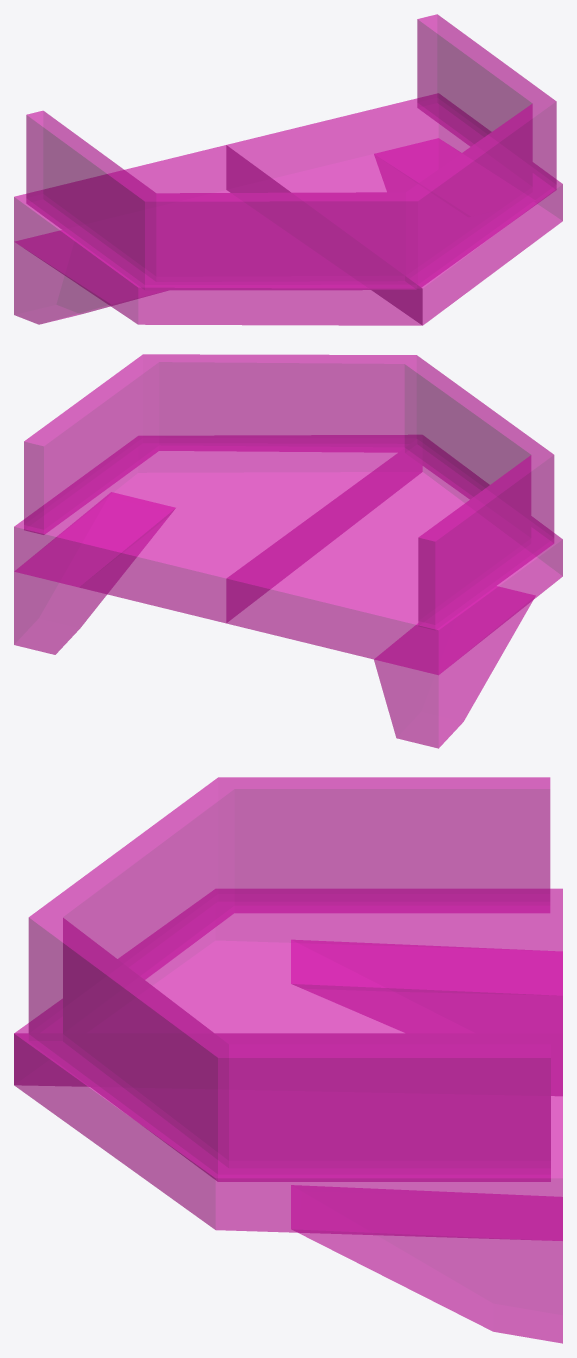
File: SM_Bld_Balcony_03_Collision.fbx
3 views of the same model, one above another, from view 1: azimuth 30°, elevation 25°; view 2: azimuth 150°, elevation 25°; view 3: azimuth 270°, elevation 25° (orthographic). The views are drawn at different scales.
Visible parts, largest first — view 1: SM_Bld_Balcony_03_Collision; view 2: SM_Bld_Balcony_03_Collision; view 3: SM_Bld_Balcony_03_Collision.
Boxes of the visible parts, bbox=[...] form: SM_Bld_Balcony_03_Collision: bbox=[14, 14, 562, 325]; SM_Bld_Balcony_03_Collision: bbox=[14, 354, 562, 748]; SM_Bld_Balcony_03_Collision: bbox=[14, 777, 562, 1343].
Size of the model in its own units: 506 by 230 by 405.
